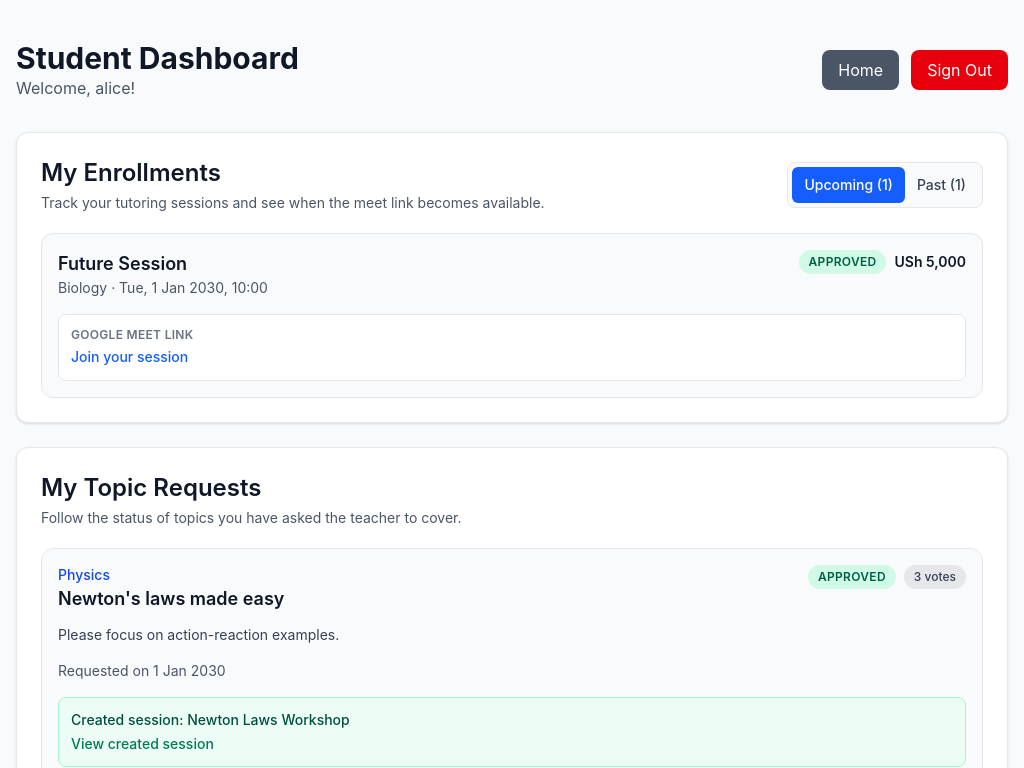
Scenario: StudentDashboard › filters between upcoming and past enrollments
Expected: the heading "Future Session" is shown, [58,253,187,274]
Expected: the text "Past Session" is not shown
Click the button "Past (1)".
click(941, 185)  # box [905,167,978,203]
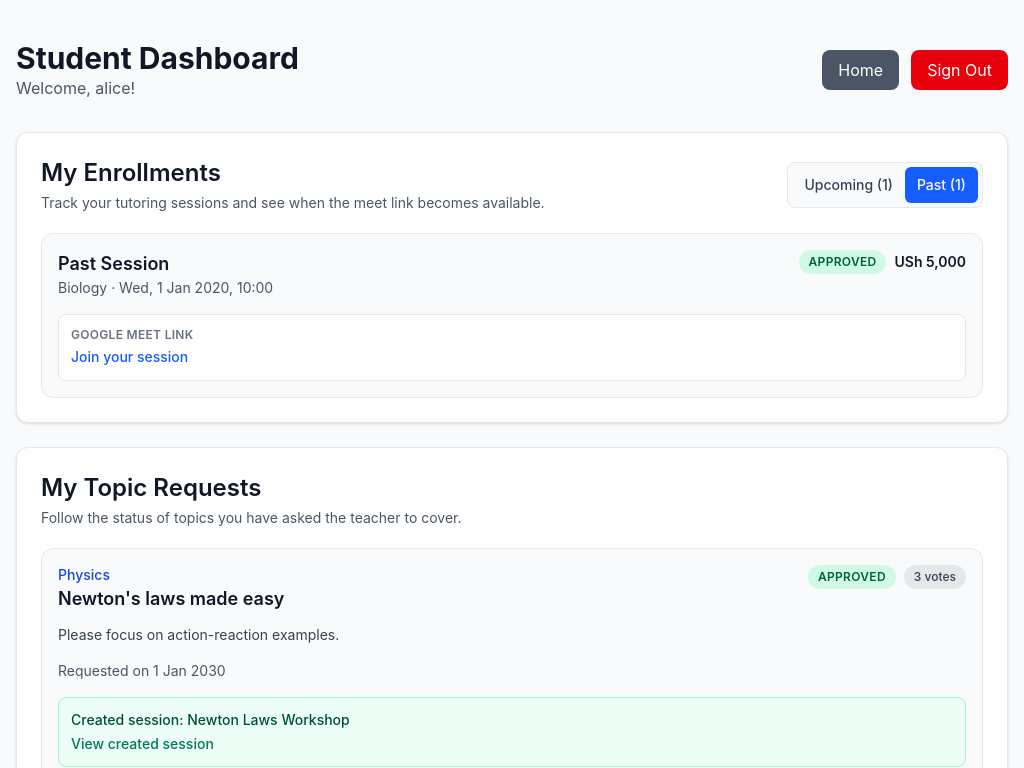
Result: the heading "Past Session" is shown at [58,253,169,274]
Result: the heading "Future Session" is gone
